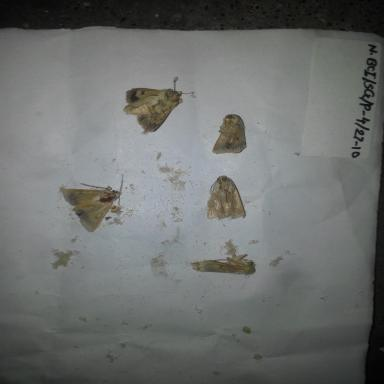abw: (118, 72, 200, 139), (57, 170, 132, 235), (182, 246, 260, 287), (198, 170, 252, 226), (197, 110, 254, 159)
